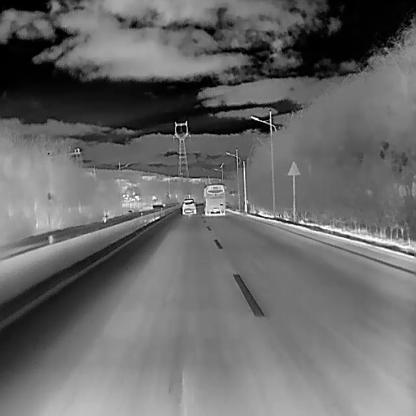bus: (201, 181, 226, 217)
car: (180, 196, 196, 216)
